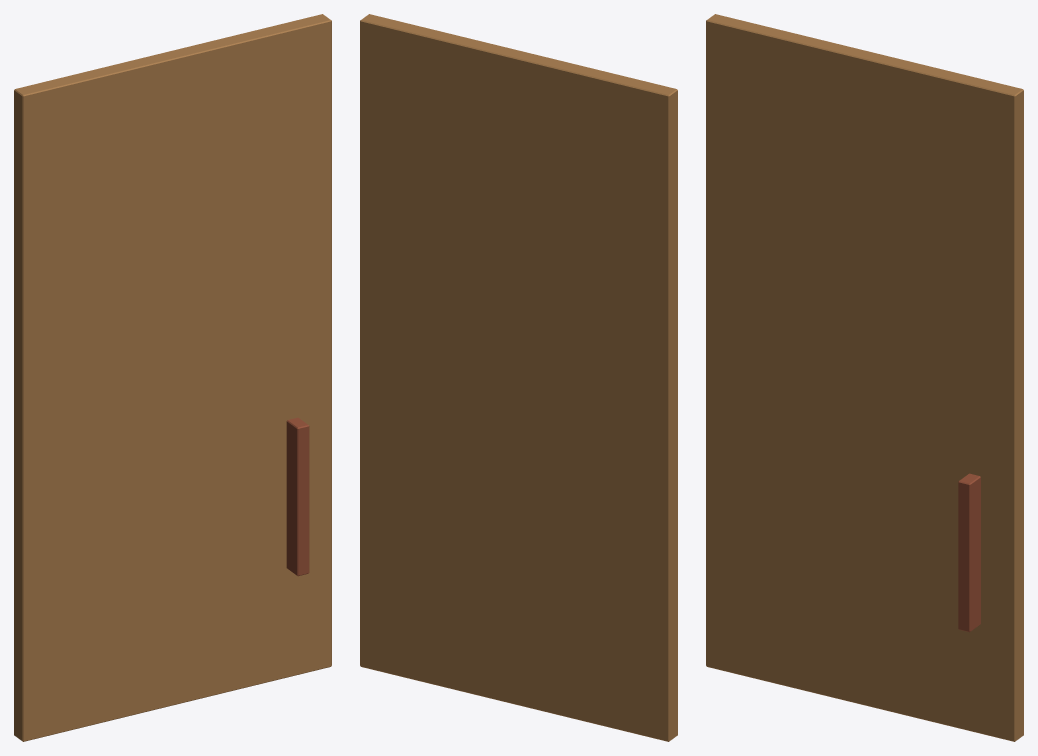
Rendered from wall_cabinet_two_doors_left_door.glb.
3 views of the same model, side by side, from view 1: azimuth 30°, elevation 25°; view 2: azimuth 150°, elevation 25°; view 3: azimuth 330°, elevation 25° (orthographic).
Parts seen in each view (by area): view 1: wall_cabinet_two_doors_left_door.001; view 2: wall_cabinet_two_doors_left_door.001; view 3: wall_cabinet_two_doors_left_door.001.
Part boxes in pixels (x1,y1,x2,y2): wall_cabinet_two_doors_left_door.001: (14,14,331,741); wall_cabinet_two_doors_left_door.001: (360,14,677,741); wall_cabinet_two_doors_left_door.001: (706,14,1023,741).
Size of the model in its own units: 0.3485 by 0.696 by 0.04.
